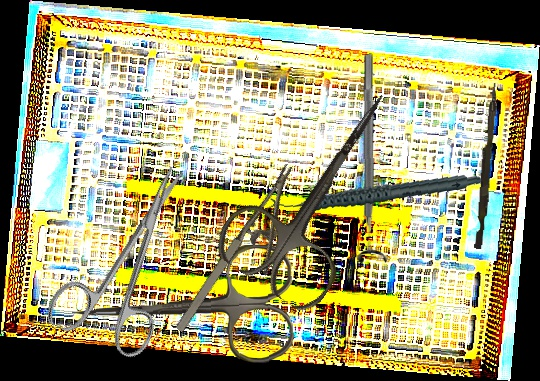Fixation Ring: (351, 53, 389, 264)
Handpiece: (268, 154, 483, 230)
Iris Scissors: (207, 62, 436, 319), (41, 146, 228, 369), (69, 243, 295, 370)
Needle Holder: (169, 163, 327, 353)
Pusher: (474, 82, 498, 250)
